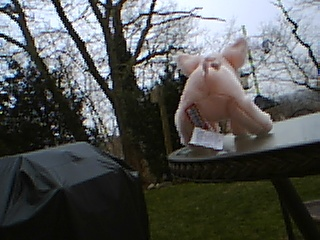piggy: (170, 35, 271, 144)
